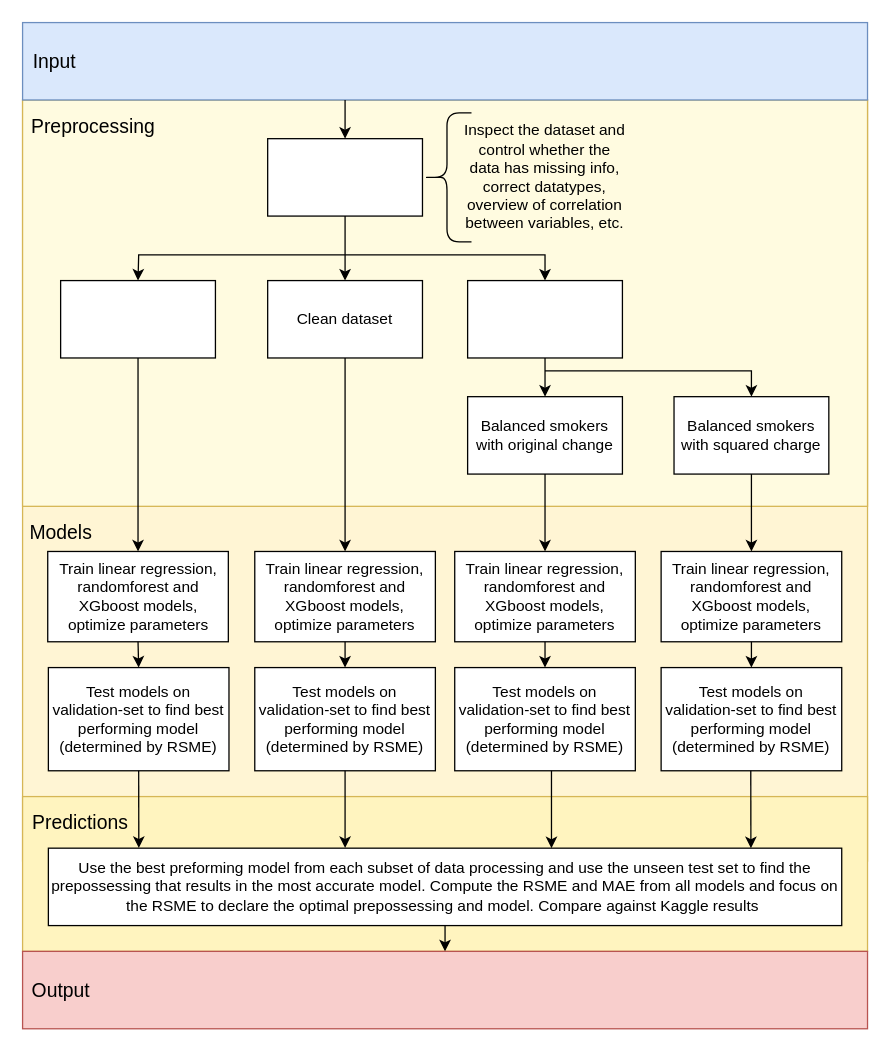
The diagram is 890 pixels wide and 1051 high, and some of its shapes have lost their labels. Here are the shapes that lost their labels. From the top down, the box of each, then its label:
(21, 21, 868, 100): Retrieve original dataset from Kaggle
(266, 137, 422, 216): Data visualization & p reprocessing
(59, 279, 215, 358): Charges converted into log scale
(466, 279, 622, 358): Oversampling of smokers
(21, 950, 868, 1029): Optimal path of data processing and strongest preforming model
